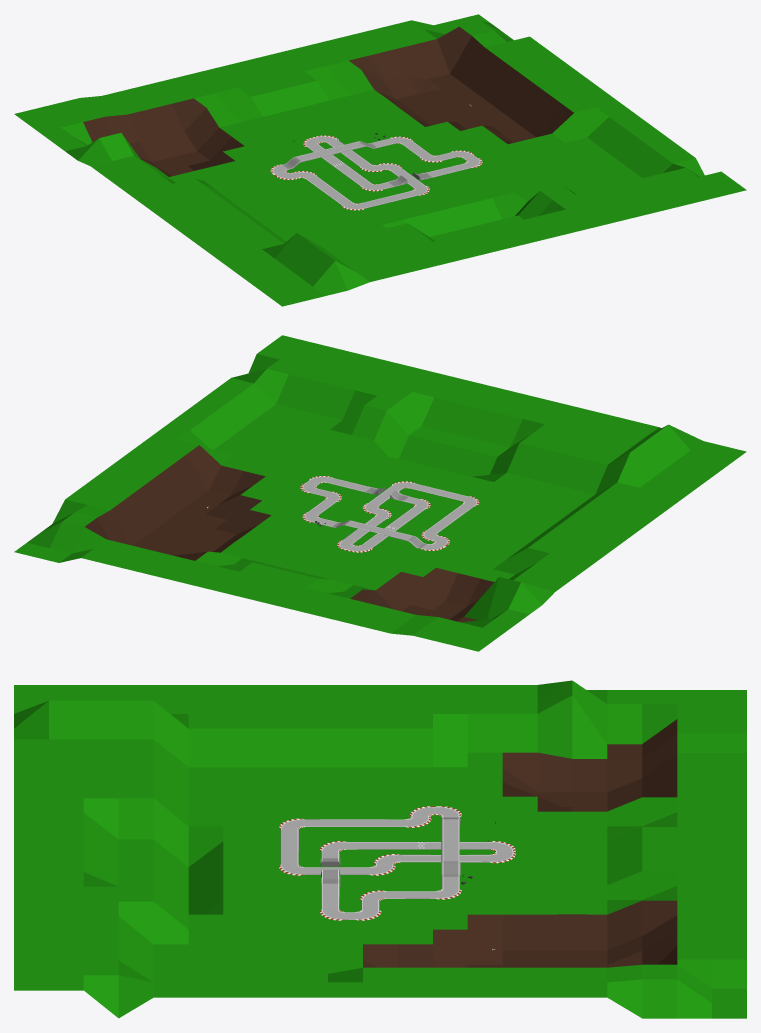
File: probemos2.fbx
3 views of the same model, one above another, from view 1: azimuth 30°, elevation 25°; view 2: azimuth 150°, elevation 25°; view 3: azimuth 270°, elevation 25° (orthographic). The views are drawn at different scales.
Parts seen in each view (by area): view 1: Cube, track; view 2: Cube, track; view 3: Cube, track.
Boxes of the visible parts, left/top/right/bottom form: Cube: left=14, top=14, right=746, bottom=306; track: left=270, top=135, right=482, bottom=210; Cube: left=14, top=335, right=746, bottom=651; track: left=300, top=476, right=479, bottom=552; Cube: left=14, top=680, right=746, bottom=1018; track: left=278, top=806, right=515, bottom=920.
Bounding box in the file's own units: 450 × 52.98 × 450.
